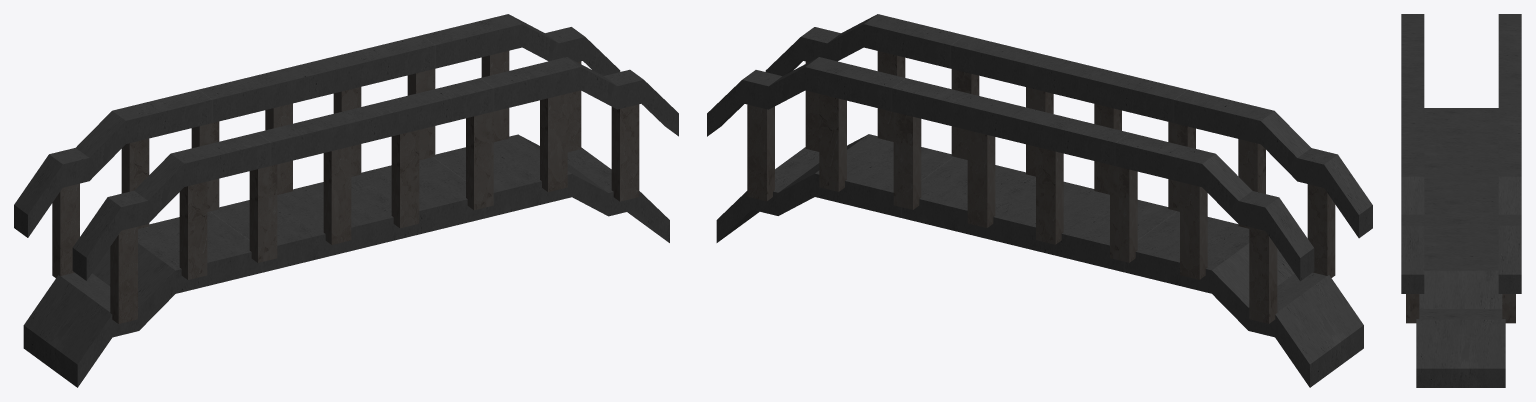
Rendered from stage1_bridge.FBX.
3 views of the same model, side by side, from view 1: azimuth 30°, elevation 25°; view 2: azimuth 150°, elevation 25°; view 3: azimuth 270°, elevation 25° (orthographic). The views are drawn at different scales.
Visible parts, largest first — view 1: Box001, Box019, Box018, Box013, Box012, Box014, Box011, Box017, Box015, Box016, Box010, Box002 (+7 smaller); view 2: Box001, Box018, Box019, Box006, Box007, Box008, Box004, Box005, Box009, Box003, Box002, Box010 (+7 smaller); view 3: Box001, Box018, Box019, Box009, Box017.
Part boxes in pixels (bbox=[...]): Box001: bbox=[23, 134, 669, 387]; Box019: bbox=[72, 57, 678, 280]; Box018: bbox=[14, 14, 620, 237]; Box013: bbox=[323, 146, 351, 244]; Box012: bbox=[249, 164, 277, 262]; Box014: bbox=[391, 130, 419, 228]; Box011: bbox=[179, 181, 207, 279]; Box017: bbox=[611, 104, 639, 201]; Box015: bbox=[466, 111, 493, 210]; Box016: bbox=[540, 93, 567, 192]; Box010: bbox=[110, 226, 137, 323]; Box002: bbox=[52, 183, 79, 277]; Box001: bbox=[716, 134, 1363, 387]; Box018: bbox=[707, 57, 1314, 281]; Box019: bbox=[765, 14, 1372, 238]; Box006: bbox=[967, 130, 995, 227]; Box007: bbox=[893, 112, 921, 209]; Box008: bbox=[819, 94, 846, 191]; Box004: bbox=[1110, 165, 1137, 262]; Box005: bbox=[1036, 147, 1063, 244]; Box009: bbox=[747, 104, 774, 201]; Box003: bbox=[1180, 182, 1207, 279]; Box002: bbox=[1249, 227, 1277, 323]; Box010: bbox=[1307, 184, 1335, 277]; Box001: bbox=[1416, 108, 1505, 387]; Box018: bbox=[1498, 14, 1521, 293]; Box019: bbox=[1401, 14, 1424, 293]; Box009: bbox=[1502, 294, 1515, 323]; Box017: bbox=[1406, 294, 1419, 323].
Size of the model in its own units: 133 by 44.32 by 28.13.
2 materials, 2 textured.
